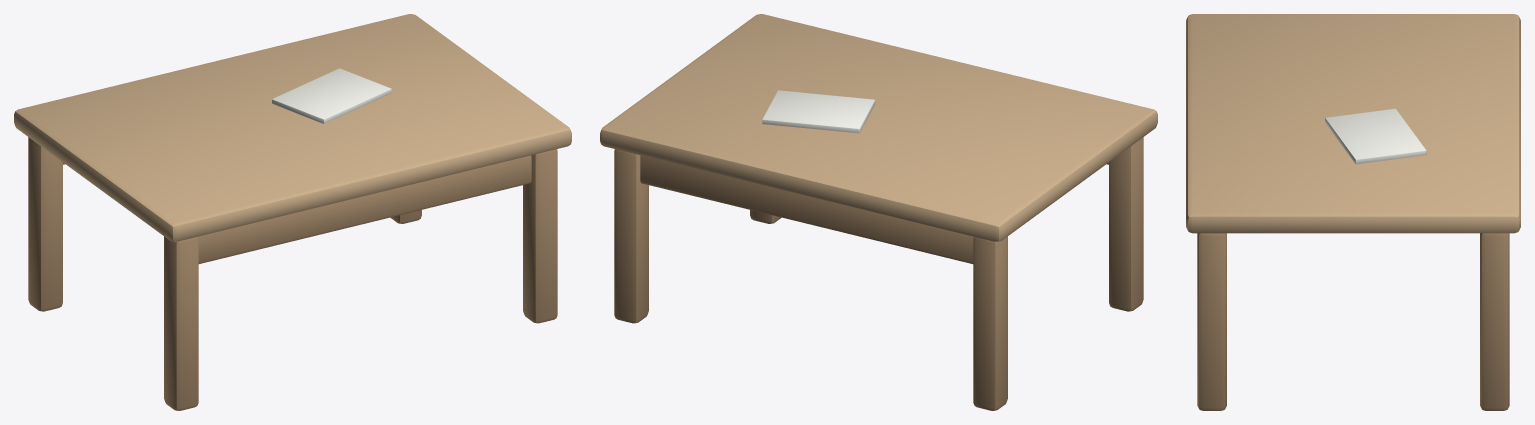
Rendered from prop_table.glb.
3 renders of one model, left to right at view 1: azimuth 30°, elevation 25°; view 2: azimuth 150°, elevation 25°; view 3: azimuth 270°, elevation 25°, orthographic. The views are drawn at different scales.
Visible parts, largest first — view 1: table; view 2: table; view 3: table.
Boxes of the visible parts, x1,y1,x2,y2 form: table: [14, 14, 571, 410]; table: [600, 14, 1157, 410]; table: [1186, 14, 1520, 410].
Size of the model in its own units: 65 by 30.7 by 45.
